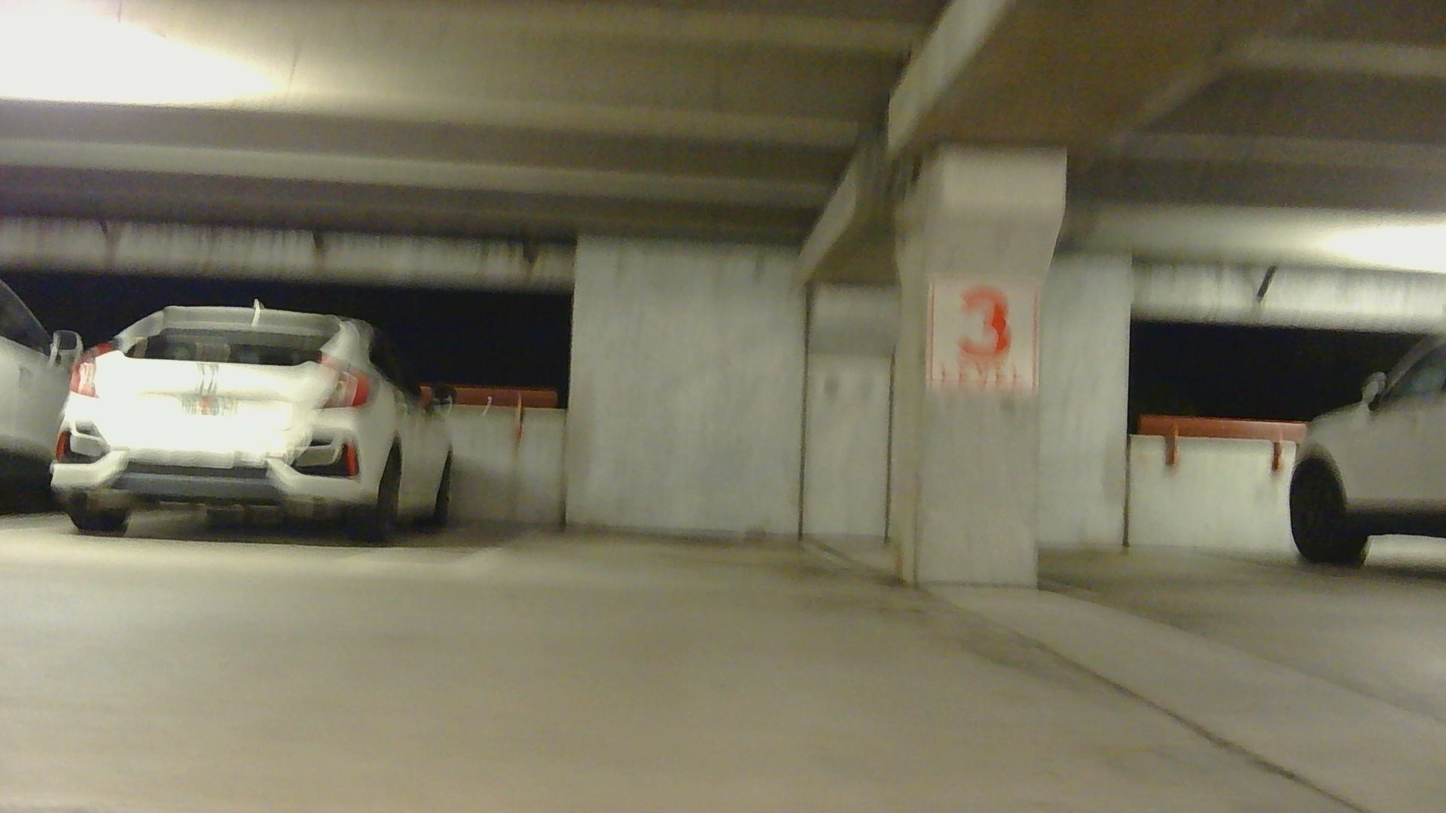empty_spot: (406, 440, 894, 573)
occupied_spot: (41, 285, 471, 554), (1283, 295, 1445, 585)
